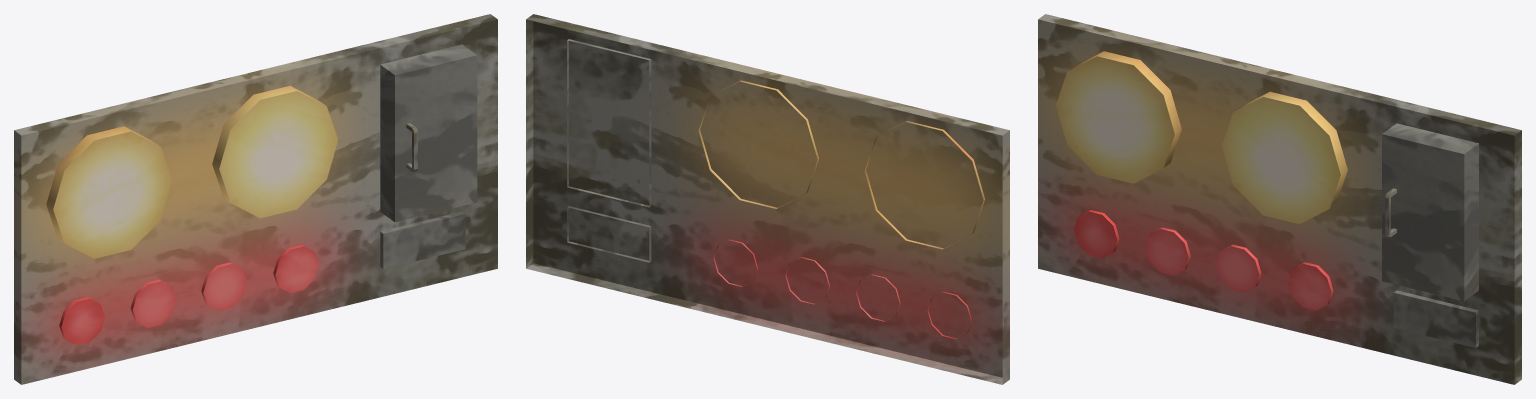
File: Cuadro_luces (1).FBX
3 views of the same model, side by side, from view 1: azimuth 30°, elevation 25°; view 2: azimuth 150°, elevation 25°; view 3: azimuth 330°, elevation 25° (orthographic).
Parts seen in each view (by area): view 1: Box002; view 2: Box002; view 3: Box002.
Part boxes in pixels (bbox=[...]): Box002: bbox=[14, 14, 497, 384]; Box002: bbox=[526, 14, 1009, 384]; Box002: bbox=[1038, 14, 1521, 384].
Size of the model in its own units: 200 by 100 by 21.91.
